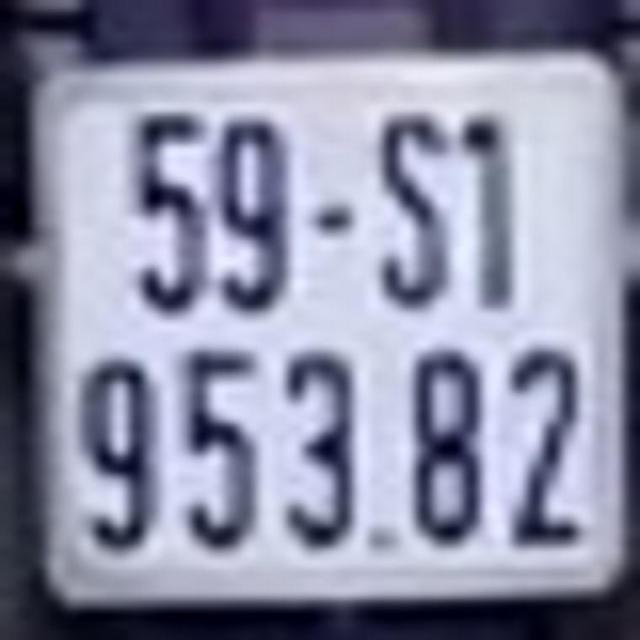1: (461, 103, 518, 304)
2: (507, 344, 589, 545)
3: (283, 340, 360, 548)
5: (172, 336, 272, 553), (136, 100, 212, 316)
8: (403, 338, 490, 543)
9: (219, 105, 293, 322), (83, 353, 160, 560)
S: (377, 105, 452, 314)
